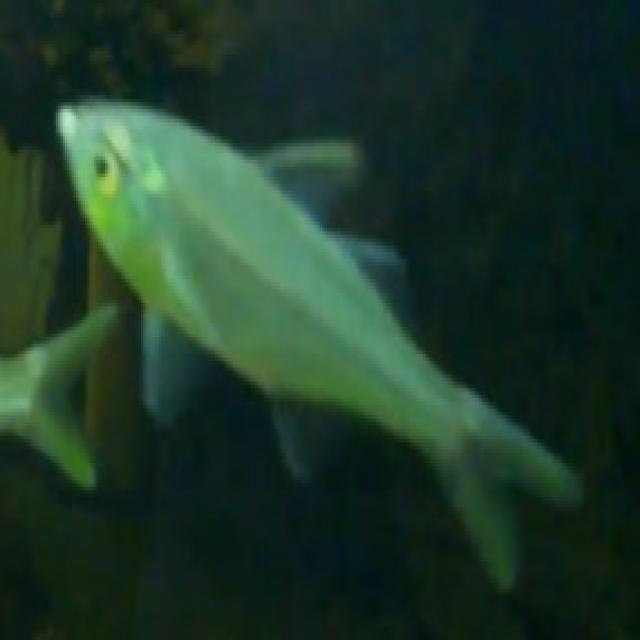Glass-Perchlet: (46, 53, 587, 576)
